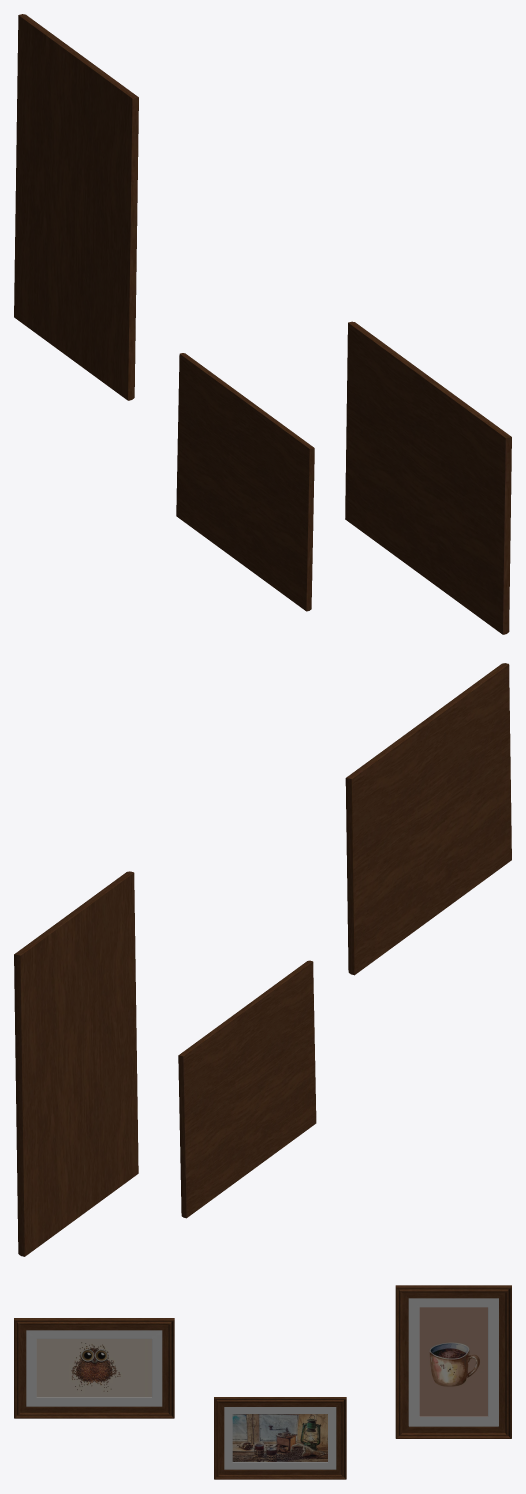
Rendered from wall_pictures.glb.
The picture shows the model from 3 angles, top to bottom: view 1: azimuth 30°, elevation 25°; view 2: azimuth 150°, elevation 25°; view 3: azimuth 270°, elevation 25°; orthographic projection. The views are drawn at different scales.
Parts seen in each view (by area): view 1: wall_picture_2_wall_picture_2_2k_0, wall_picture_3_wall_picture_3_0, wall_picture_1_wall_picture_1_2k_0; view 2: wall_picture_2_wall_picture_2_2k_0, wall_picture_3_wall_picture_3_0, wall_picture_1_wall_picture_1_2k_0; view 3: wall_picture_2_wall_picture_2_2k_0, wall_picture_3_wall_picture_3_0, wall_picture_1_wall_picture_1_2k_0.
Boxes of the visible parts, x1,y1,x2,y2 form: wall_picture_2_wall_picture_2_2k_0: (14,14,138,400); wall_picture_3_wall_picture_3_0: (345,321,511,634); wall_picture_1_wall_picture_1_2k_0: (176,353,314,611); wall_picture_2_wall_picture_2_2k_0: (14,871,138,1256); wall_picture_3_wall_picture_3_0: (345,663,511,975); wall_picture_1_wall_picture_1_2k_0: (178,960,316,1218); wall_picture_2_wall_picture_2_2k_0: (395,1285,511,1438); wall_picture_3_wall_picture_3_0: (14,1318,174,1418); wall_picture_1_wall_picture_1_2k_0: (214,1397,346,1479).
Bounding box in the file's own units: 0.0259 × 0.7888 × 1.83.
3 materials, 3 textured.
